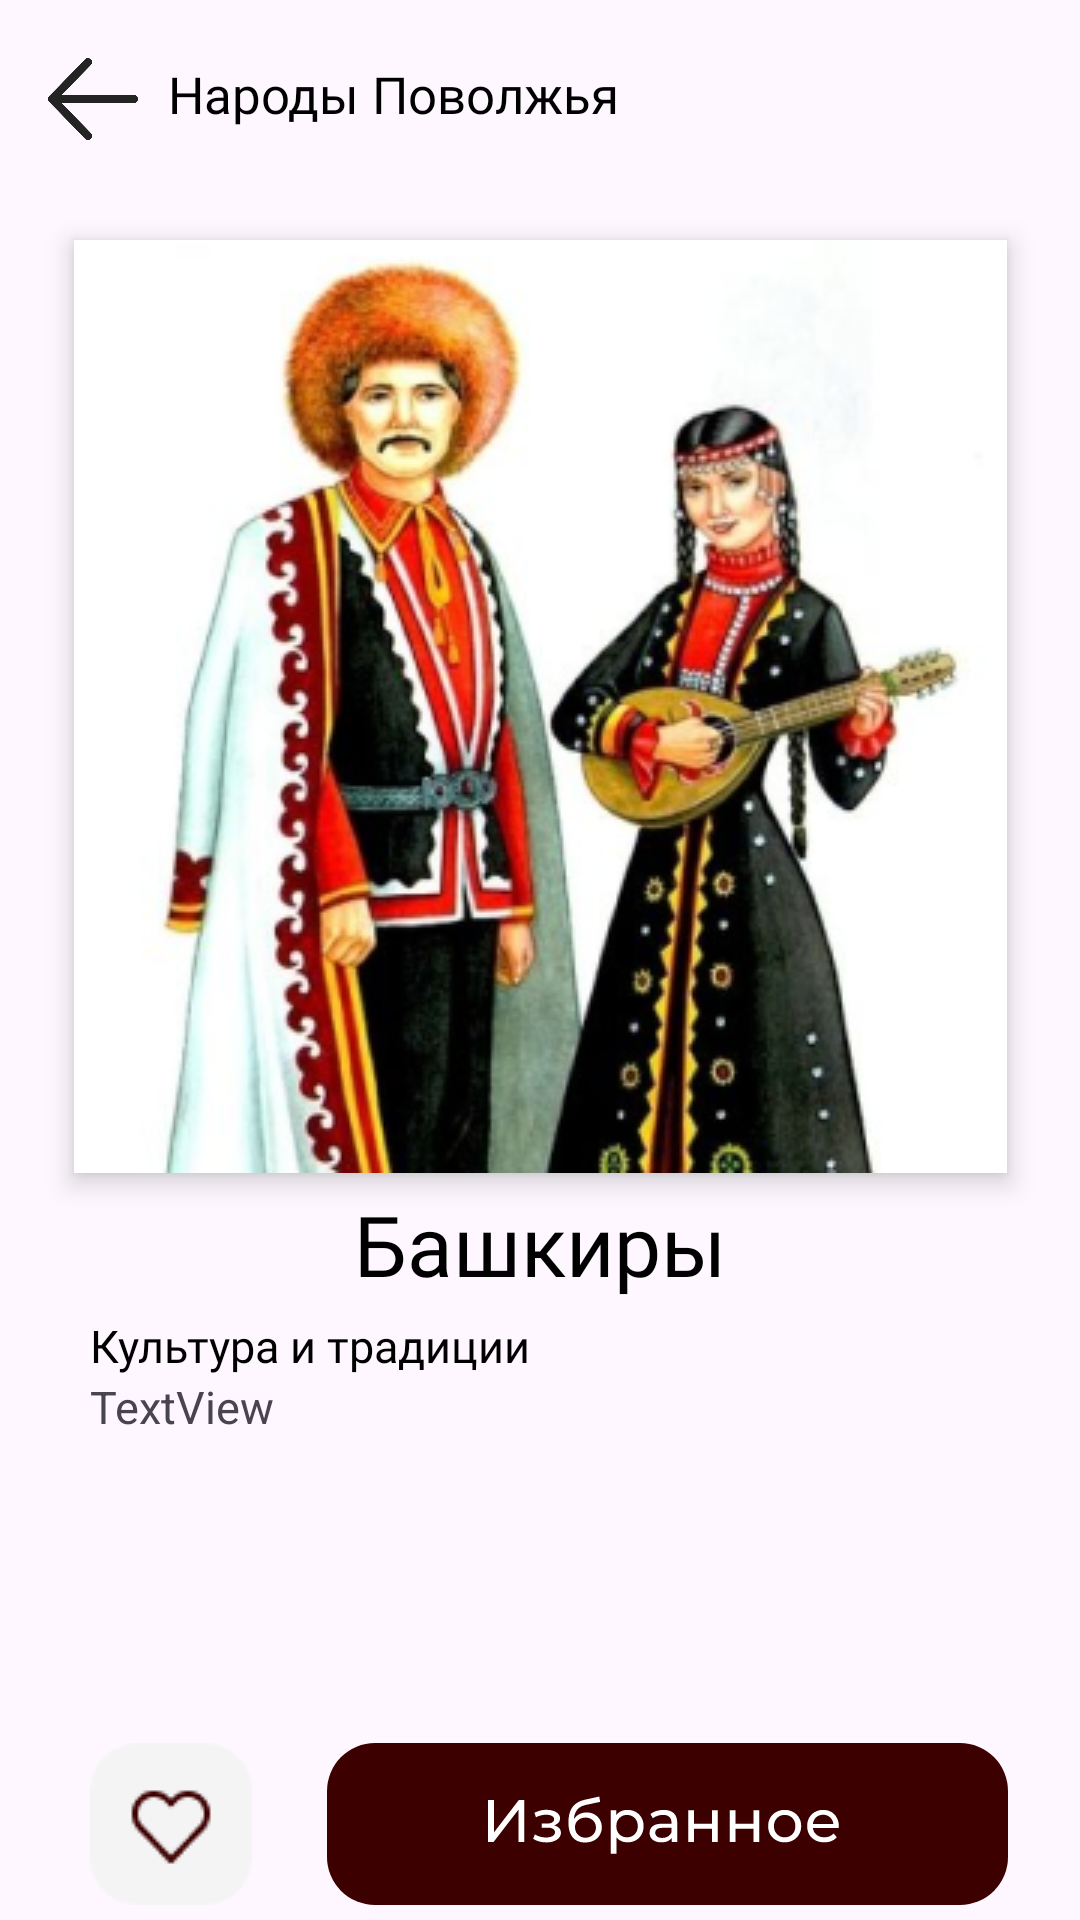

Icons on this 1080*1920 Android screen, each with the point to tap as (x,y):
backbutton: (93,99)
fav inact cont: (171,1824)
